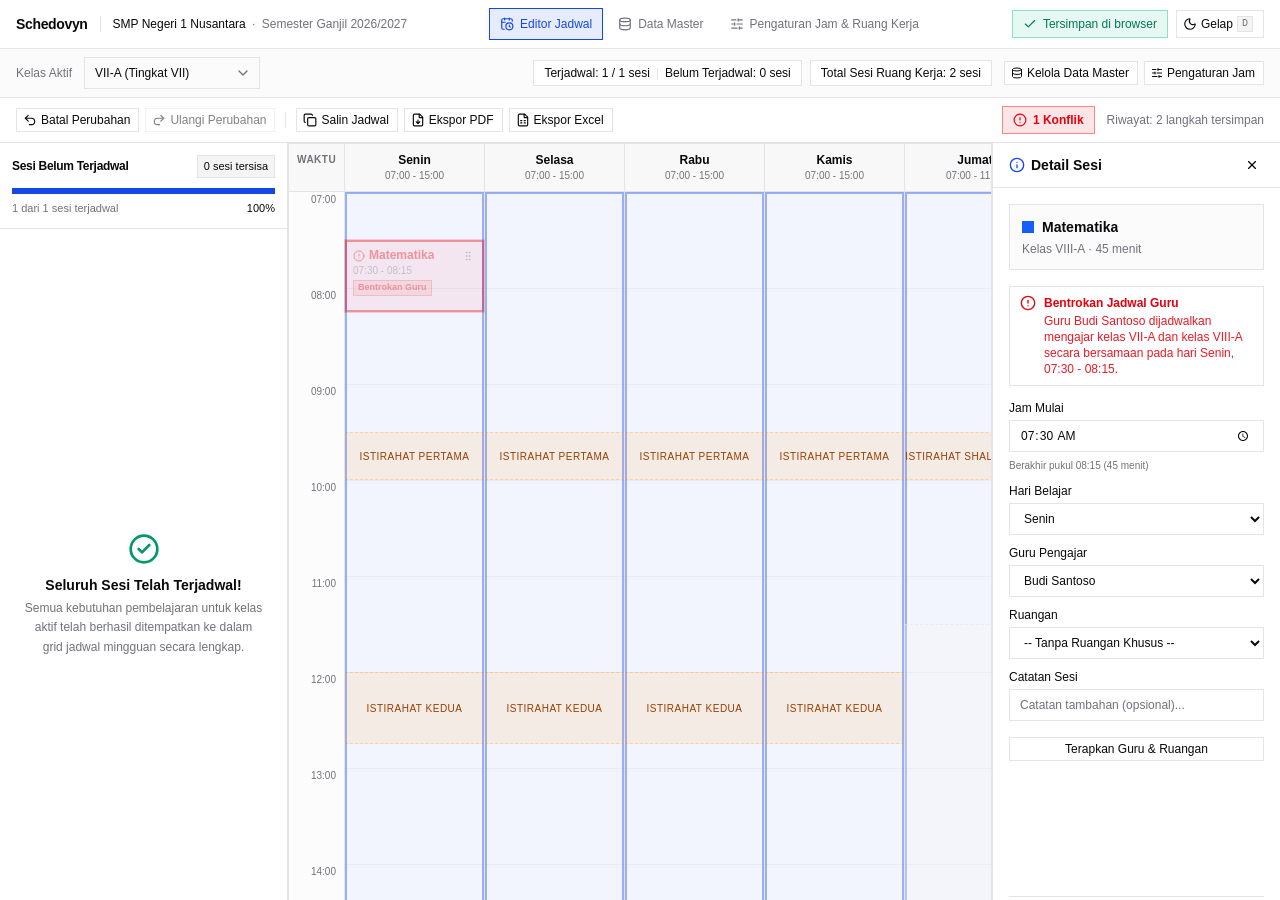
Test: FR-05 & PRD 7.2: Tampilan Multi-Cue & Navigasi Konflik (conflict-inspector-ui) › 2. ConflictStatusBadge menampilkan jumlah konflik dan membuka ConflictListPanel saat diklik
Check: the text "1 Konflik" is shown, box [1033,112,1084,128]
// Klik badge untuk membuka panel daftar konflik
Click the button with aria-label "Status Validasi: Konflik ditemukan" at (1048, 120), box [1002,106,1095,134]
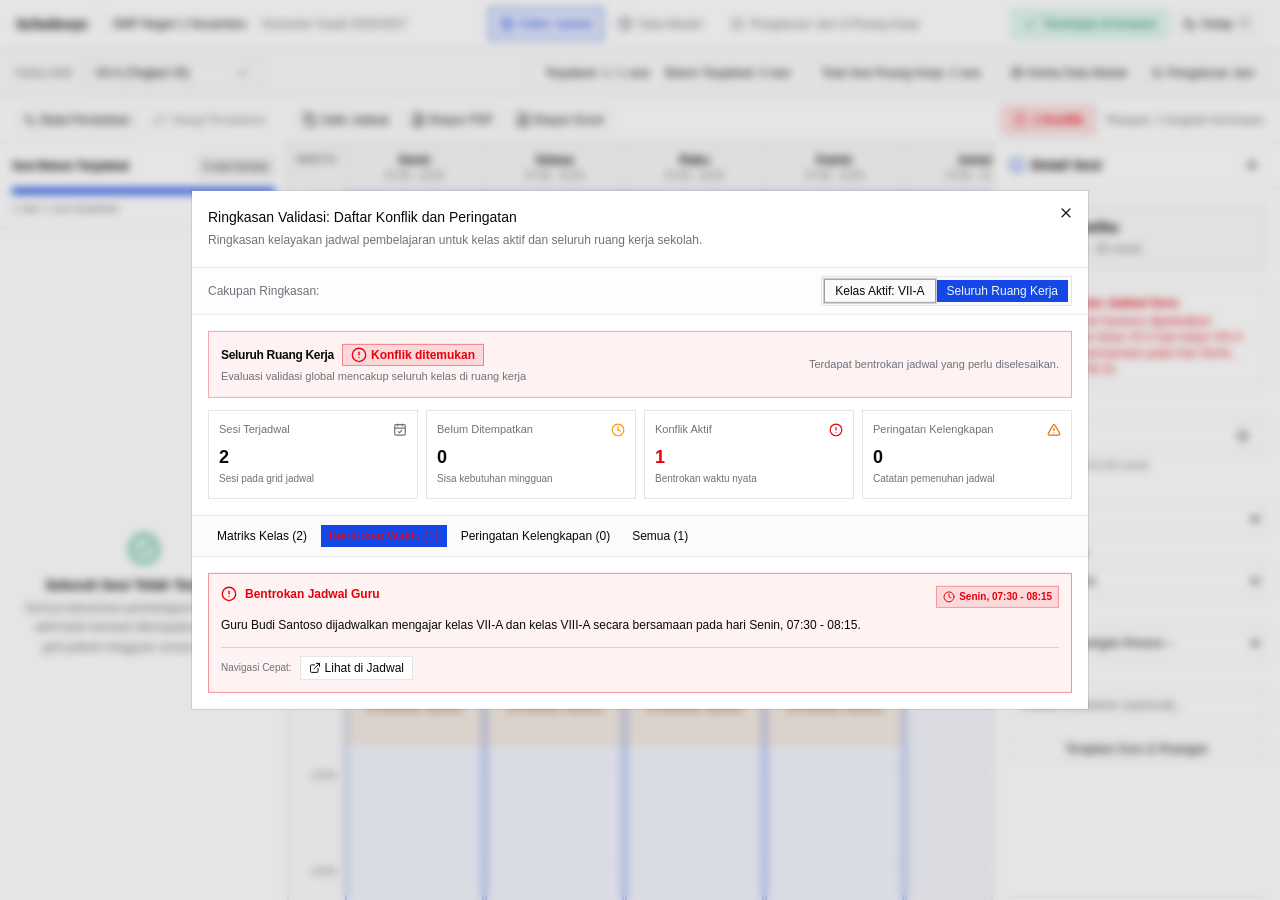
Check: the dialog "Daftar Konflik dan Peringatan" is shown, box [192,191,1088,709]
Check: the text "VIII-A" is shown, box [221,618,861,632]
